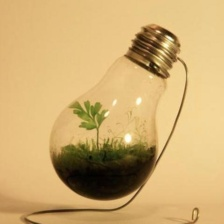light_bulb: (45, 18, 183, 207)
